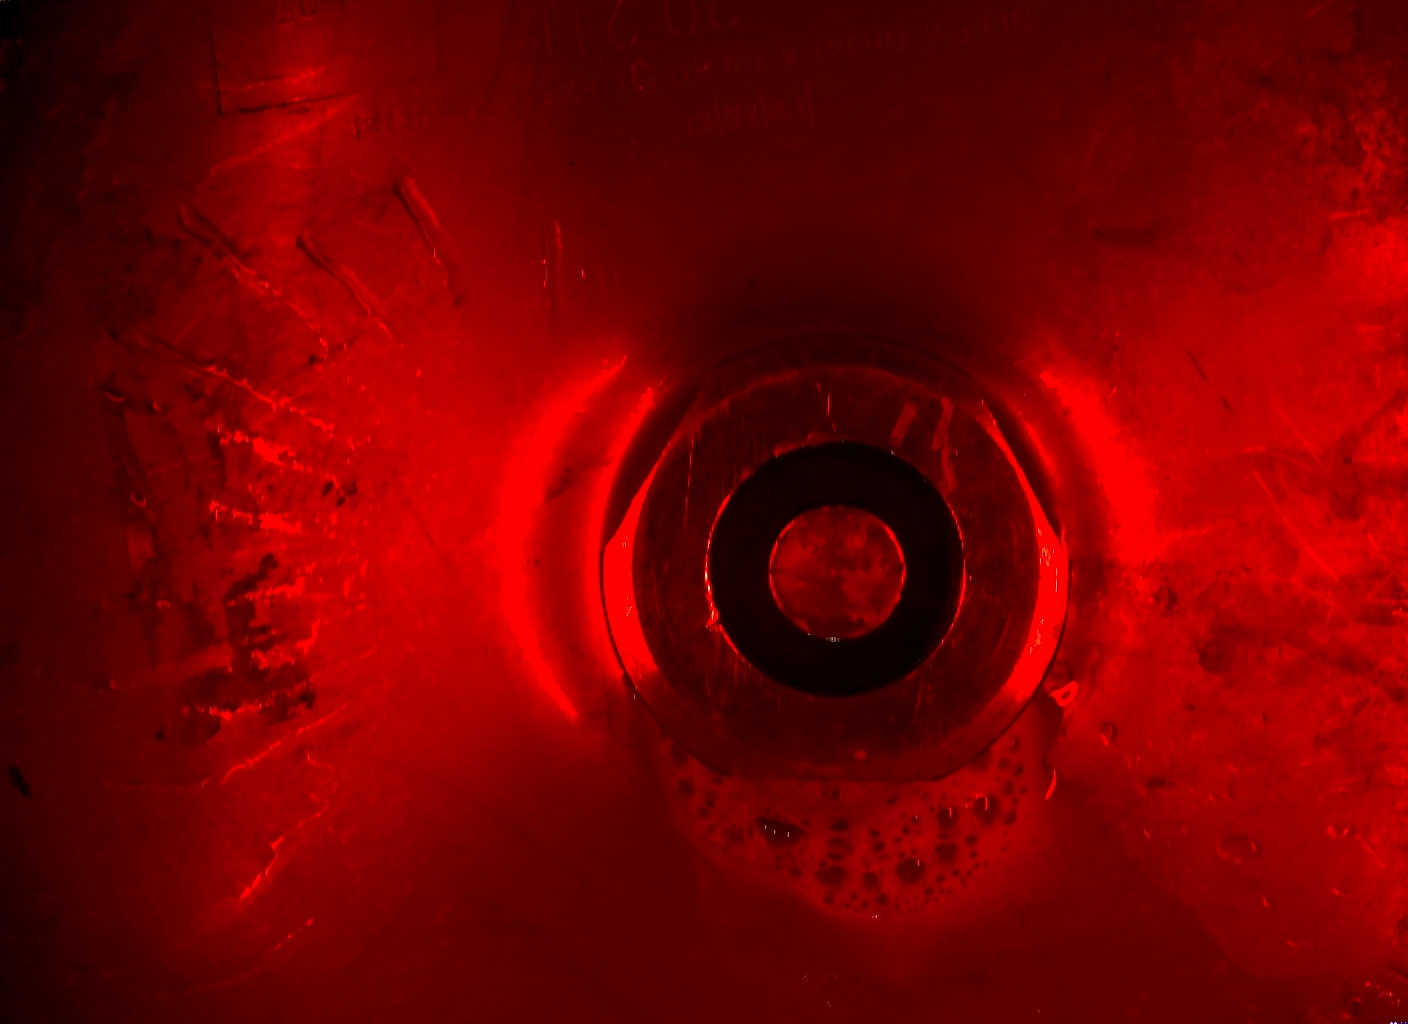pena: (620, 717, 1075, 931)
